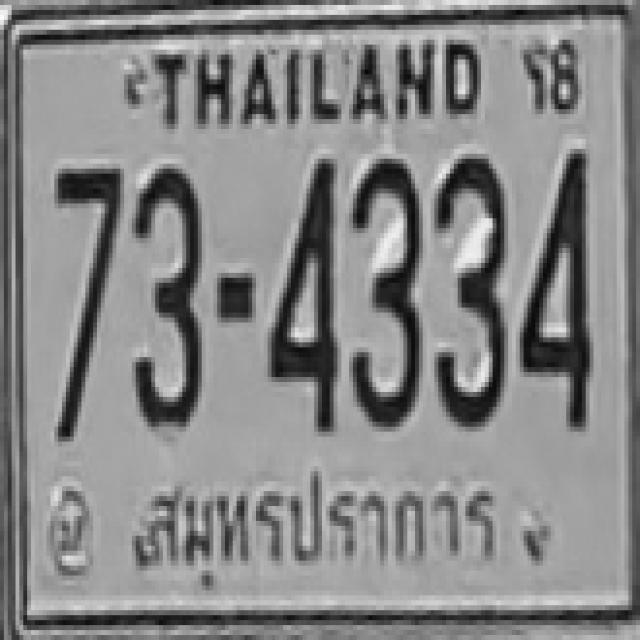3: (431, 152, 504, 424), (349, 154, 419, 426), (130, 164, 200, 426)
4: (516, 144, 589, 427), (266, 154, 336, 426)
7: (54, 164, 120, 436), (54, 164, 120, 407), (54, 164, 120, 342)
SamutPrakan: (131, 460, 510, 598)
